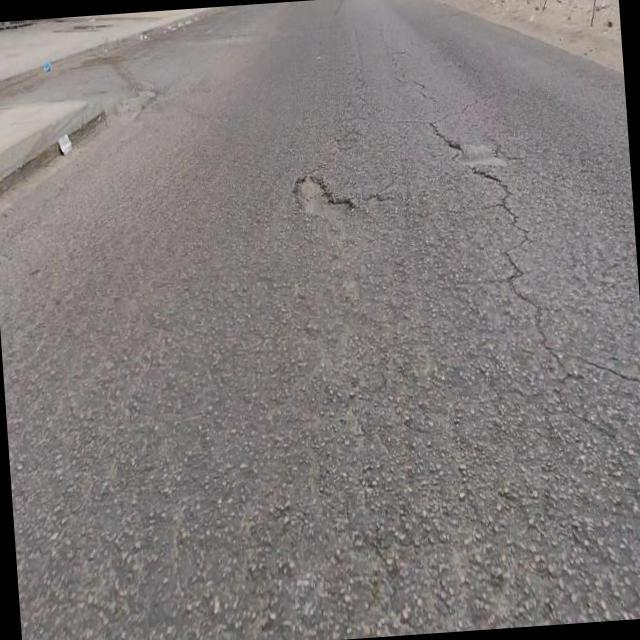Pothole: (292, 175, 351, 215)
